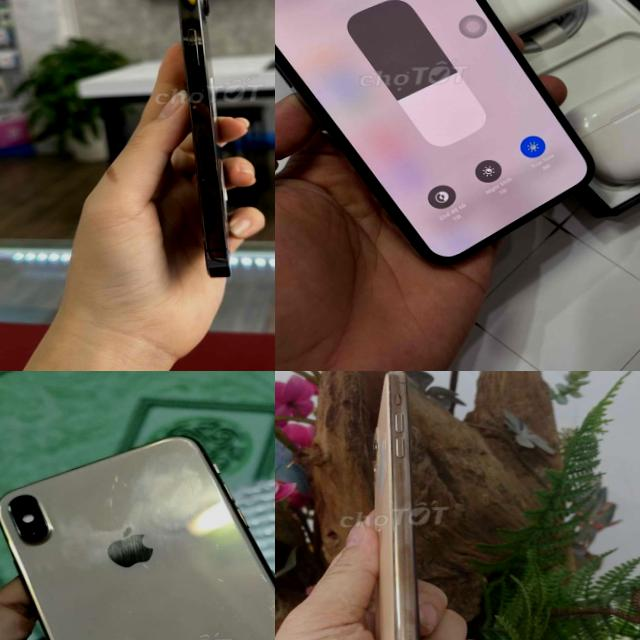scratch: (96, 466, 140, 496), (119, 555, 169, 580), (197, 566, 244, 592), (255, 593, 275, 621)
